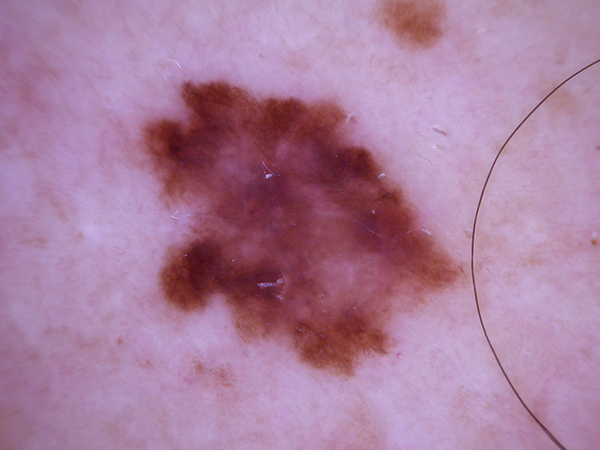Detected Lesion: (136, 72, 467, 385)
